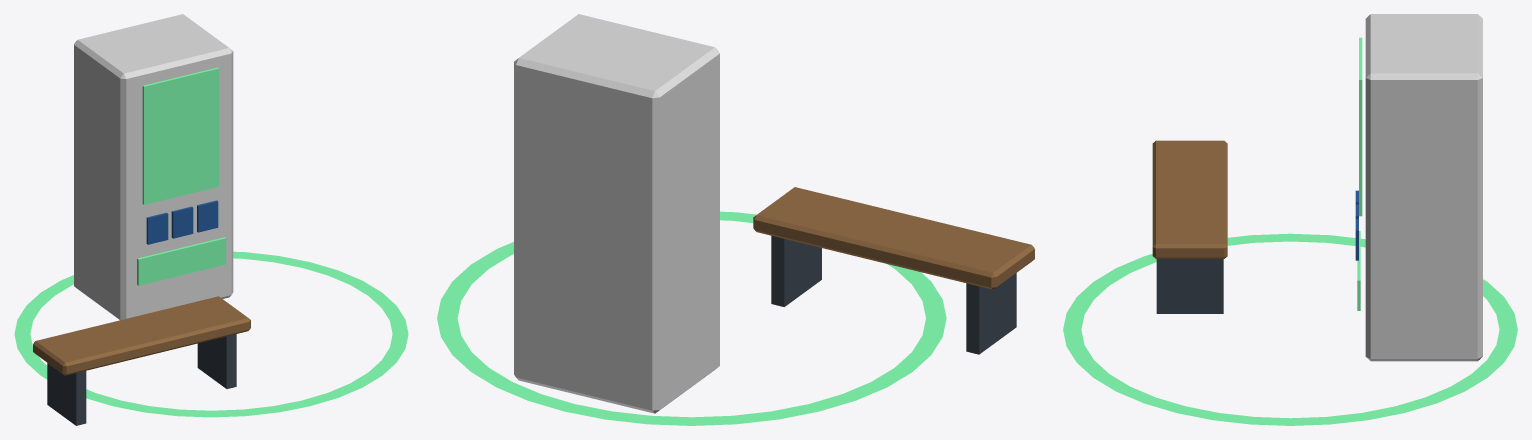
Rendered from spring.fbx.
The picture shows the model from 3 angles, left to right: view 1: azimuth 30°, elevation 25°; view 2: azimuth 150°, elevation 25°; view 3: azimuth 270°, elevation 25°; orthographic projection. The views are drawn at different scales.
Parts seen in each view (by area): view 1: spring; view 2: spring; view 3: spring.
Part boxes in pixels (left/top/right/bottom): spring: left=14, top=14, right=408, bottom=425; spring: left=437, top=14, right=1034, bottom=425; spring: left=1063, top=14, right=1517, bottom=425.
Bounding box in the file's own units: 3.01 × 1.9 × 2.72.
